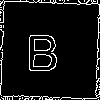B: (25, 24, 61, 72)
